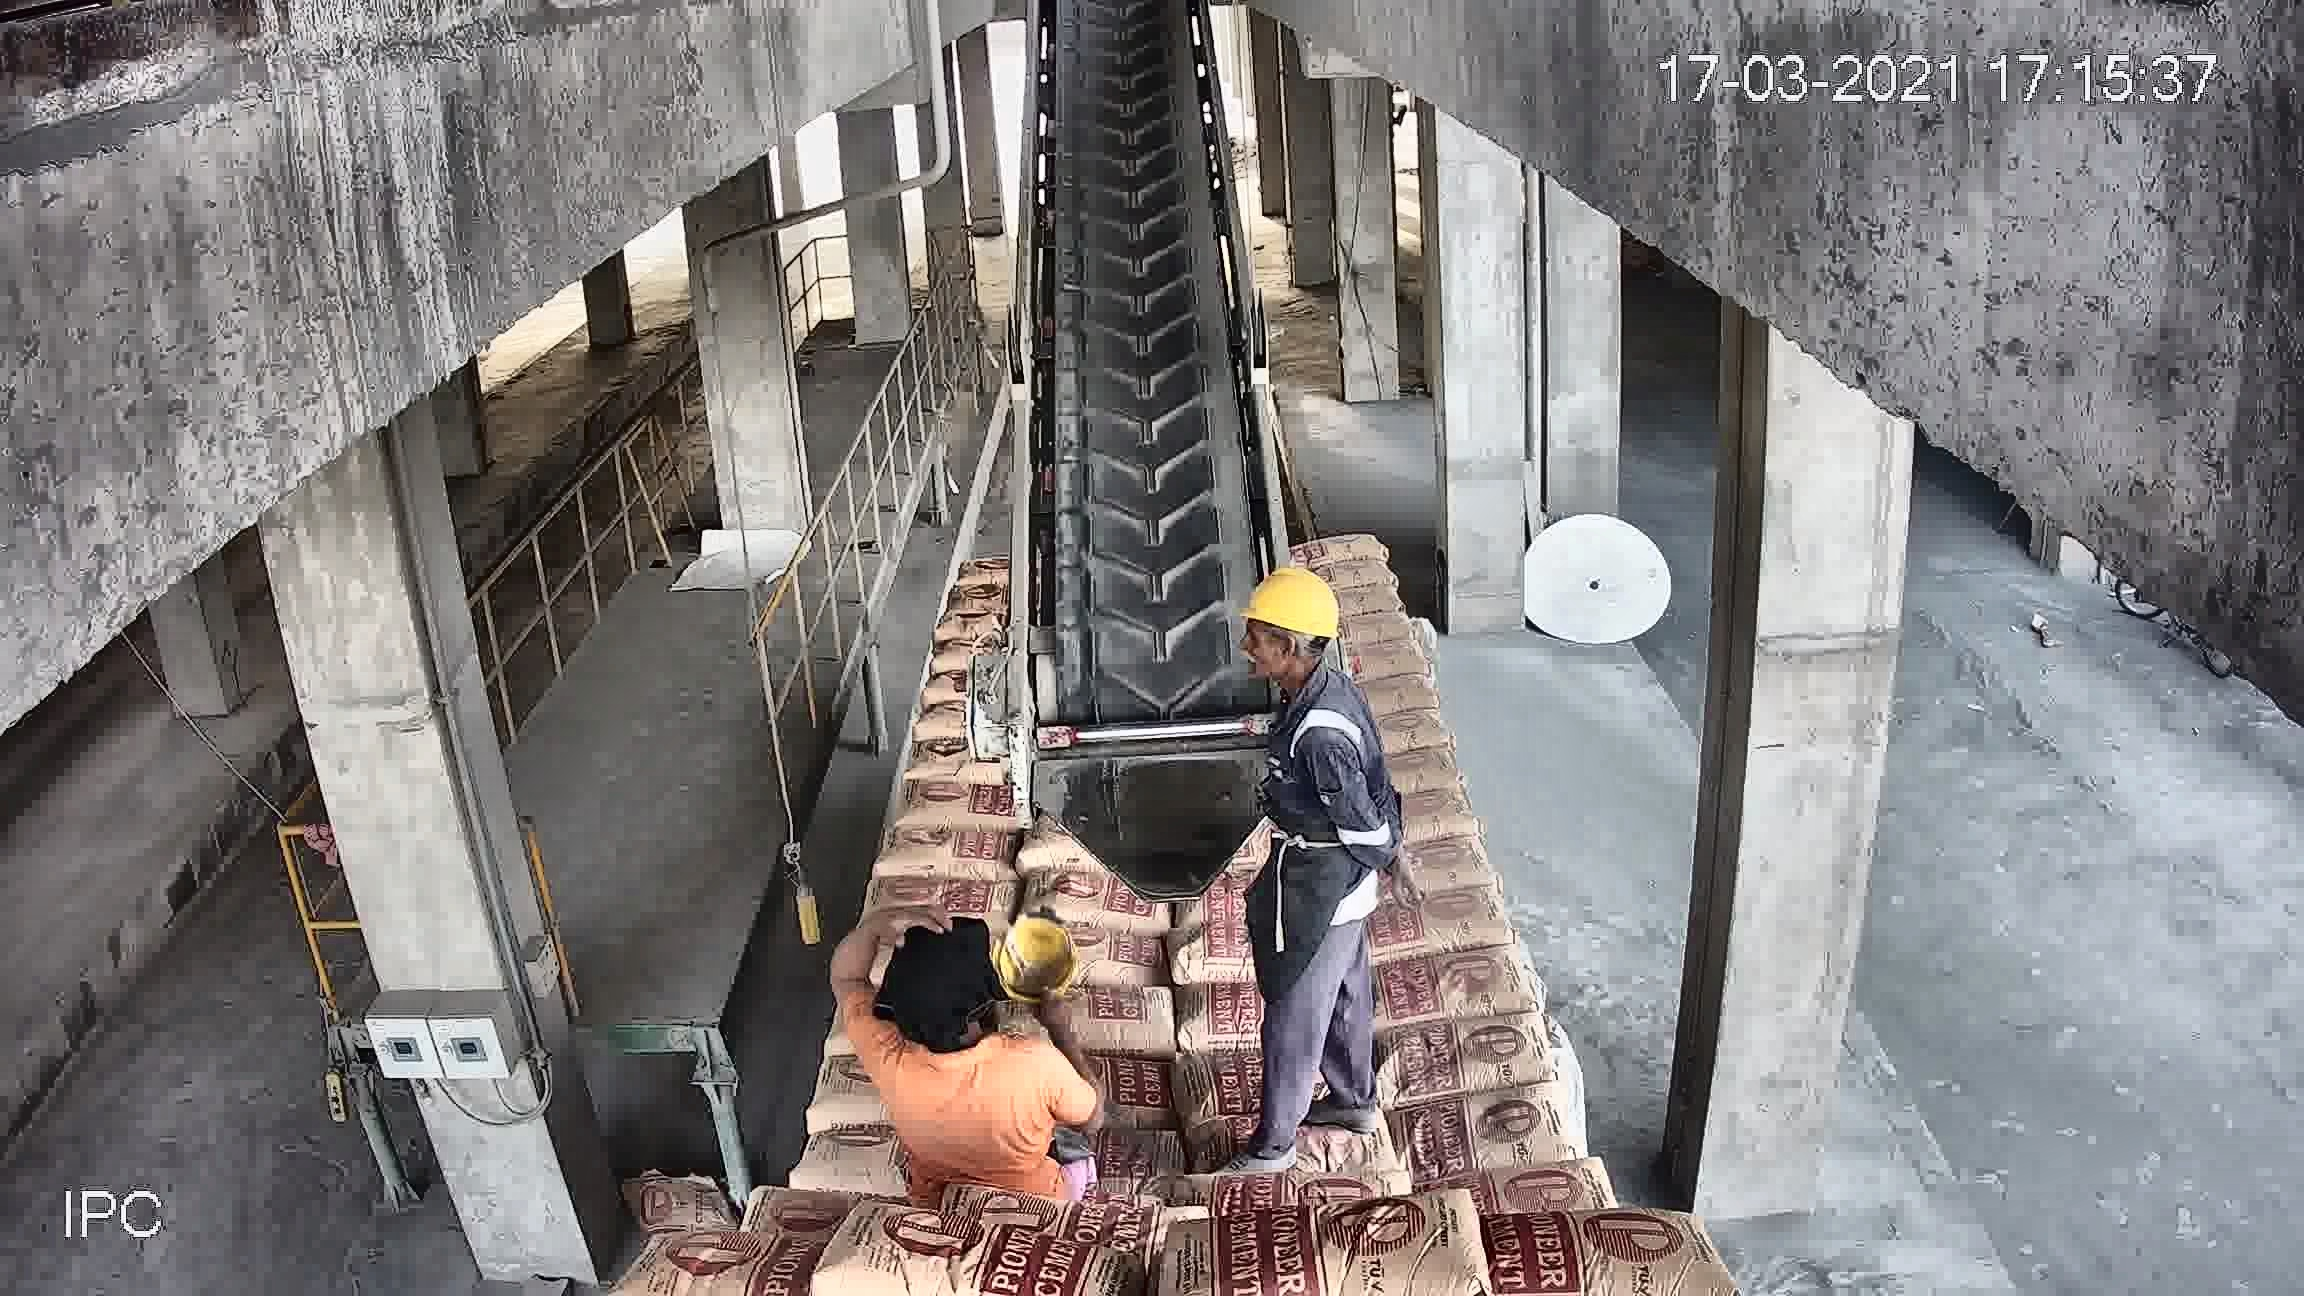bag_h: (1185, 1203, 1529, 1296), (801, 1218, 1116, 1294), (1438, 1203, 1700, 1293), (1408, 1078, 1601, 1177), (1353, 945, 1544, 1036), (1374, 1016, 1556, 1109), (638, 1226, 847, 1294), (1043, 915, 1195, 1002), (1361, 888, 1511, 968), (1435, 1160, 1608, 1222), (1184, 1173, 1404, 1220), (1052, 992, 1203, 1059), (859, 869, 1029, 926), (1059, 1044, 1196, 1114), (869, 829, 1024, 888), (1388, 831, 1495, 891), (1301, 552, 1413, 598), (900, 772, 997, 824), (1290, 533, 1394, 574), (1321, 582, 1416, 622)
belt: (1021, 63, 1271, 764)
